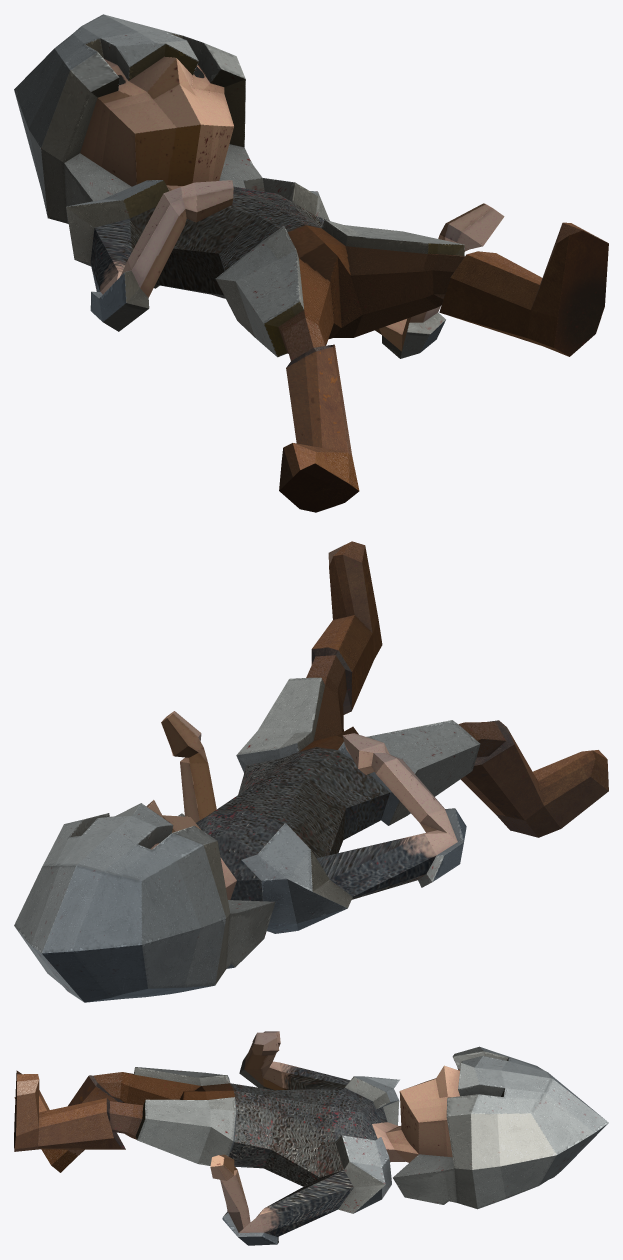
Rendered from Walk_Soldier_20.obj.
3 renders of one model, top to bottom at view 1: azimuth 30°, elevation 25°; view 2: azimuth 150°, elevation 25°; view 3: azimuth 270°, elevation 25°, orthographic. The views are drawn at different scales.
Visible parts, largest first — view 1: Soldado_LowPolySTD; view 2: Soldado_LowPolySTD; view 3: Soldado_LowPolySTD.
Boxes of the visible parts, bbox=[...] form: Soldado_LowPolySTD: bbox=[14, 14, 608, 512]; Soldado_LowPolySTD: bbox=[14, 541, 608, 1002]; Soldado_LowPolySTD: bbox=[14, 1031, 608, 1245].
Size of the model in its own units: 0.773 by 0.5093 by 1.59.
